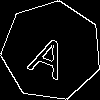A: (26, 26, 75, 81)
